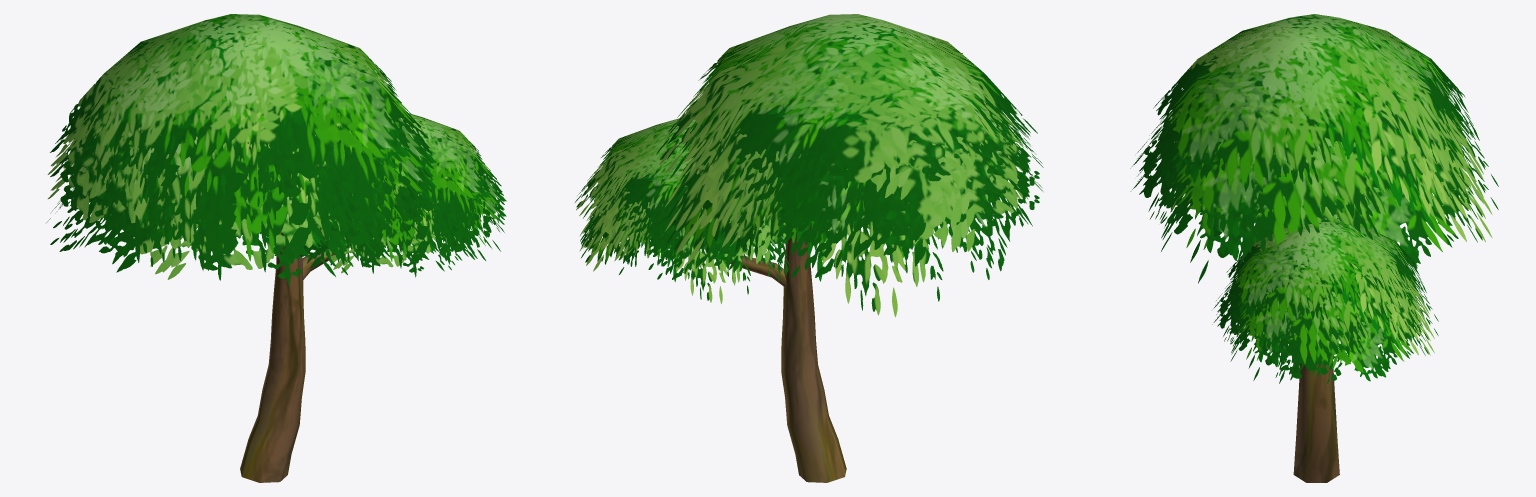
Rendered from Normal tree_2 (1).fbx.
3 views of the same model, side by side, from view 1: azimuth 30°, elevation 25°; view 2: azimuth 150°, elevation 25°; view 3: azimuth 270°, elevation 25° (orthographic). The views are drawn at different scales.
Parts seen in each view (by area): view 1: pSphere18, New_tree_1; view 2: pSphere18, New_tree_1; view 3: pSphere18, New_tree_1.
Boxes of the visible parts, box(x1,y1,x2,y2) form: pSphere18: box(46, 14, 506, 286); New_tree_1: box(240, 142, 334, 482); pSphere18: box(575, 14, 1043, 317); New_tree_1: box(730, 53, 962, 482); pSphere18: box(1130, 14, 1498, 383); New_tree_1: box(1293, 351, 1339, 482).
Bounding box in the file's own units: 6.6 × 6.11 × 5.29.
